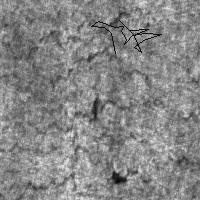crazing: (69, 7, 143, 189), (1, 119, 171, 195), (23, 4, 166, 87), (91, 20, 161, 53)
